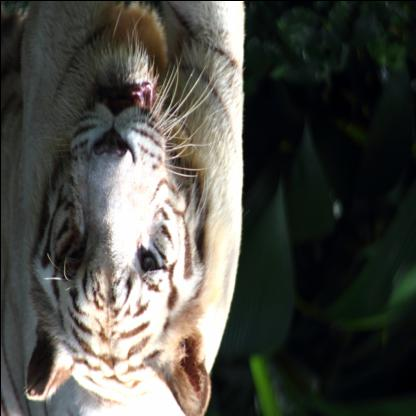tiger: (29, 38, 218, 411)
